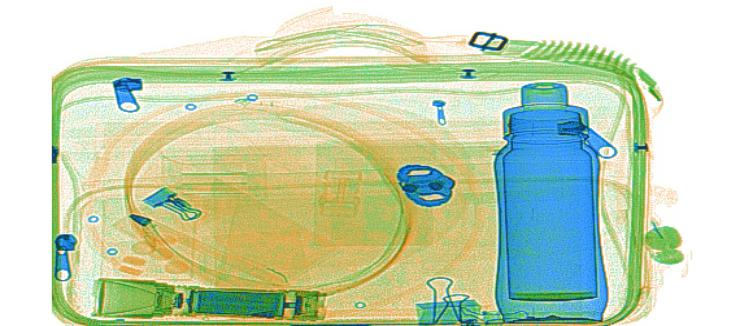battery: (187, 290, 287, 319)
